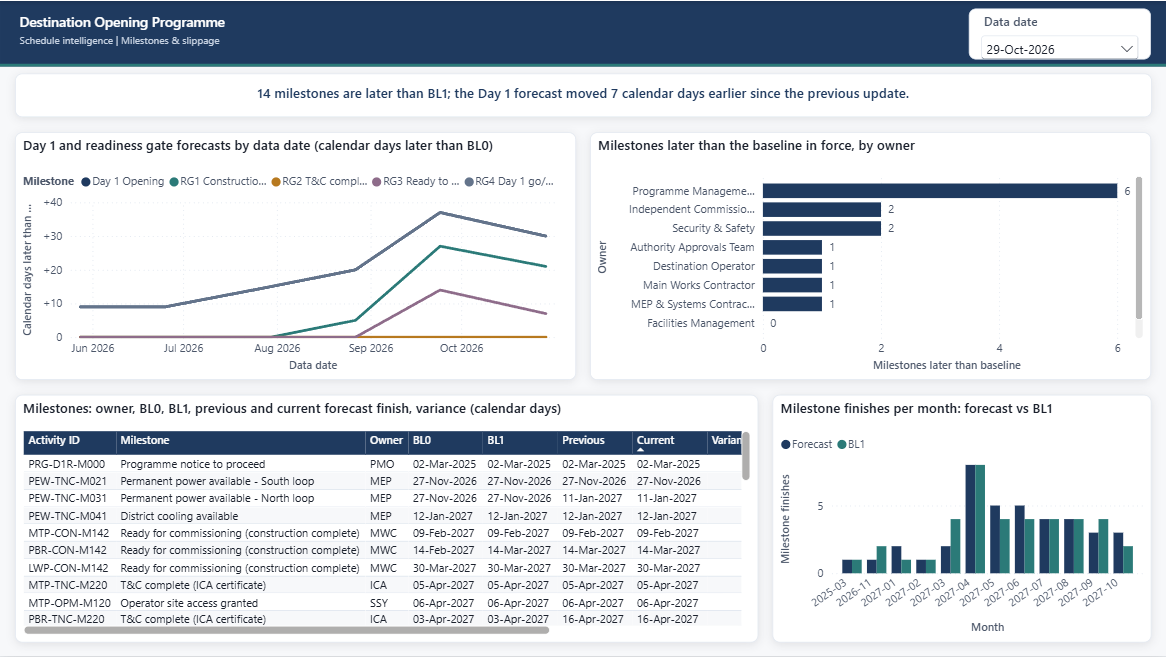

The page's visual inventory and layout, read from the dashboard file:
{"tool":"powerbi","page":{"name":"Milestones & slippage","canvas":[1280,720],"ordinal":1},"visuals":[{"type":"textbox","box":[16,8,1032,56],"z":1000},{"type":"slicer","fields":{"Values":["dim_snapshot.data_date"]},"box":[1064,8,200,56],"z":2000},{"type":"card","fields":{"Values":["_Measures.Title - Milestones"]},"box":[16,80,1248,48],"z":3000},{"type":"lineChart","title":"Day 1 and readiness gate forecasts by data date (calendar days later than BL0)","fields":{"Category":["dim_snapshot.data_date"],"Series":["dim_activity.activity_name"],"Y":["_Measures.Milestone variance vs BL0"]},"box":[16,144,616,272],"z":4000},{"type":"clusteredBarChart","title":"Milestones later than the baseline in force, by owner","fields":{"Category":["dim_owner.owner_name"],"Y":["_Measures.Milestones later than baseline in force"]},"box":[648,144,616,272],"z":5000},{"type":"tableEx","title":"Milestones: owner, BL0, BL1, previous and current forecast finish, variance (calendar days)","fields":{"Values":["dim_activity.activity_id","dim_activity.activity_name","dim_activity.owner_code","fact_activity_snapshot.bl0_finish","fact_activity_snapshot.bl1_finish","fact_activity_snapshot.prev_finish","fact_activity_snapshot.finish","fact_activity_snapshot.var_finish_bl_d","fact_activity_snapshot.slip_vs_prev_d"]},"box":[16,432,816,272],"z":6000},{"type":"clusteredColumnChart","title":"Milestone finishes per month: forecast vs BL1","fields":{"Category":["dim_date.year_month"],"Y":["_Measures.Milestone finishes (forecast)","_Measures.Milestone finishes (BL1)"]},"box":[848,432,416,272],"z":7000}]}

Visuals, with their boxes in screenshot pixels (x1, y1, x2, y2), scaled from the page's 1280x720 canvas onto the 1166x657 screenshot:
textbox: detection(15, 7, 955, 58)
slicer - dim_snapshot.data_date: detection(969, 7, 1151, 58)
card - _Measures.Title - Milestones: detection(15, 73, 1151, 117)
"Day 1 and readiness gate forecasts by data date (calendar days later than BL0)" lineChart: detection(15, 131, 576, 380)
"Milestones later than the baseline in force, by owner" clusteredBarChart: detection(590, 131, 1151, 380)
"Milestones: owner, BL0, BL1, previous and current forecast finish, variance (calendar days)" tableEx: detection(15, 394, 758, 642)
"Milestone finishes per month: forecast vs BL1" clusteredColumnChart: detection(772, 394, 1151, 642)
